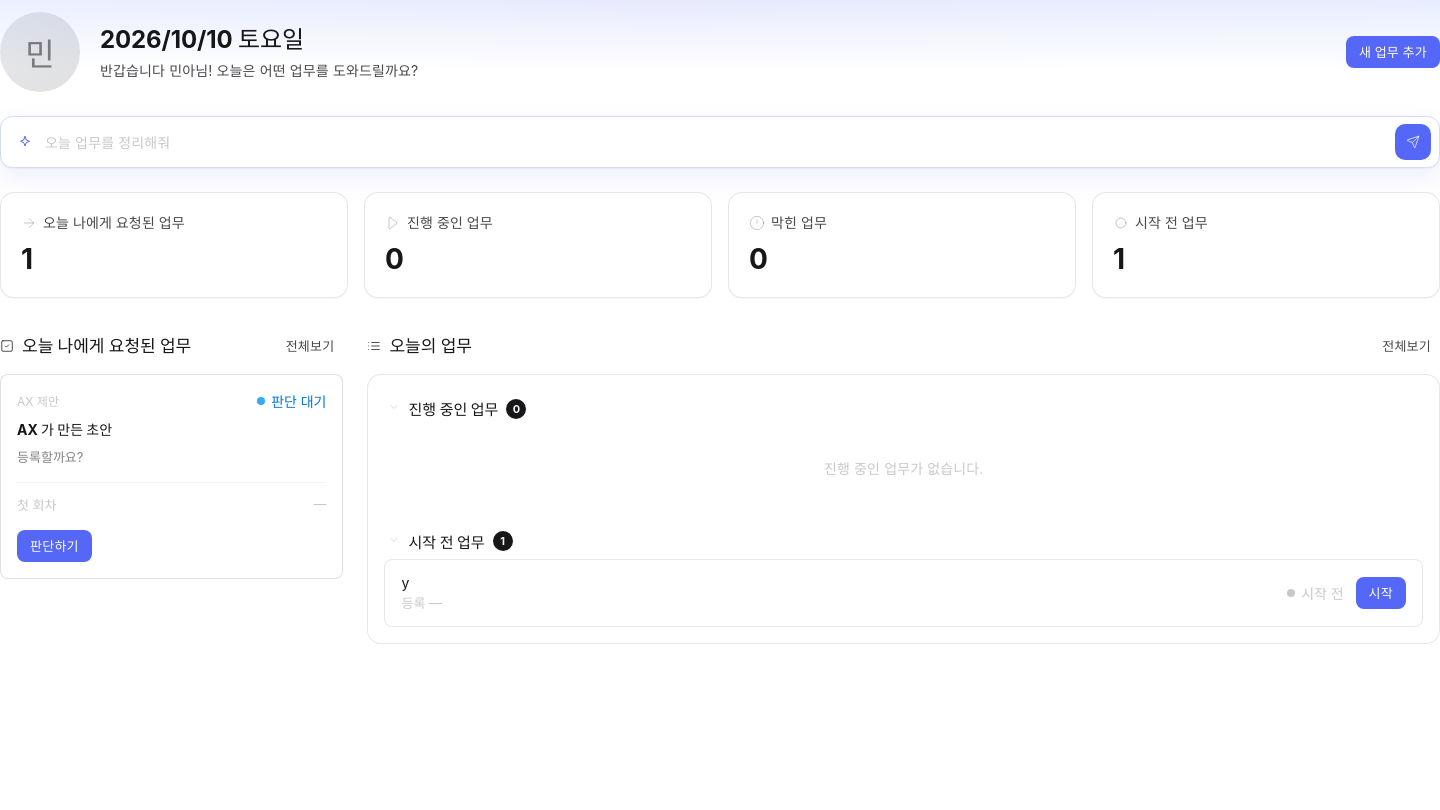
Test: 홈 — 탭 재진입 (B-01) › AX 업무 초안 카드를 누르면 같은 요약 카드(모달)가 뜬다
Click the button "판단하기": x=54, y=546 [17,530,92,562]
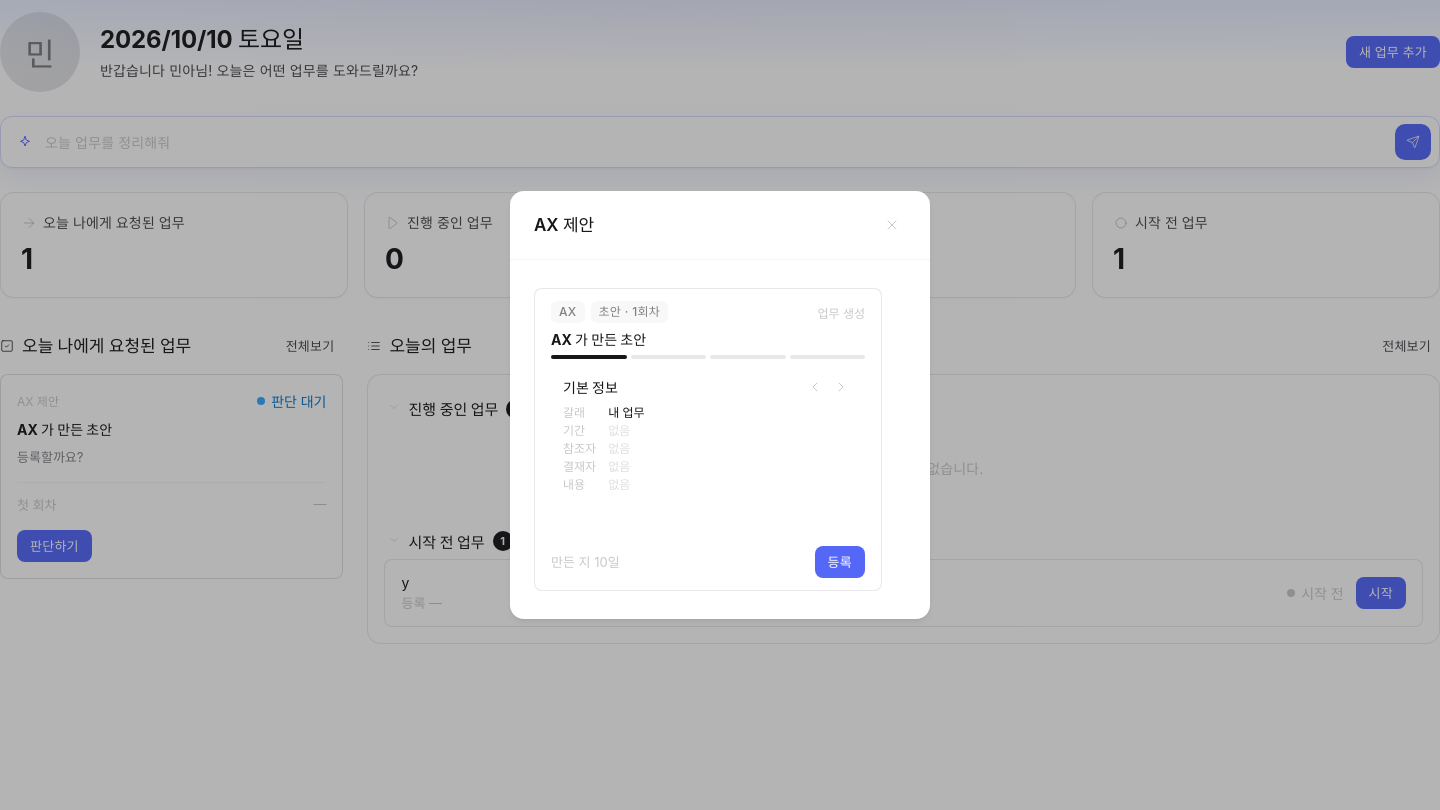
Expected: the element named "AX 업무 생성" is shown, [534,288,882,590]
Expected: the button "등록" is shown, [815,546,865,578]
